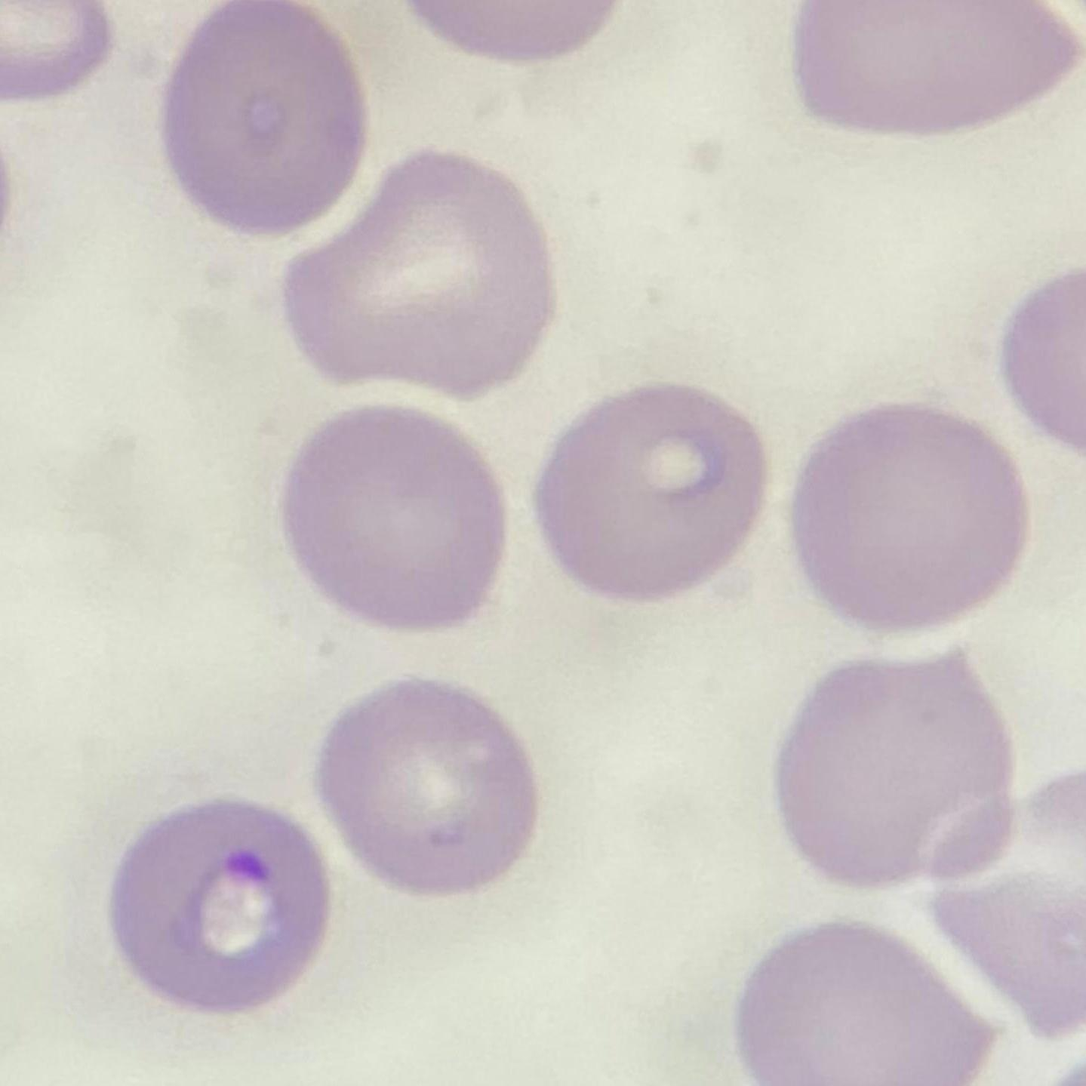Infected: (111, 800, 330, 1016)
Uninfected: (283, 153, 556, 399), (783, 649, 1018, 885), (791, 400, 1025, 633), (540, 380, 763, 605), (164, 0, 368, 240), (289, 408, 505, 633), (738, 915, 1003, 1086), (323, 685, 534, 892), (796, 0, 1081, 136)
